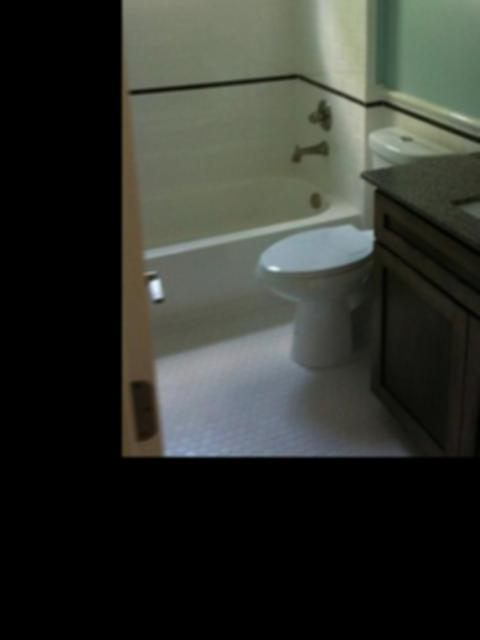Ducha: (271, 0, 357, 172)
Lavamanos: (448, 164, 480, 290)
Sanitario: (252, 127, 457, 378)
